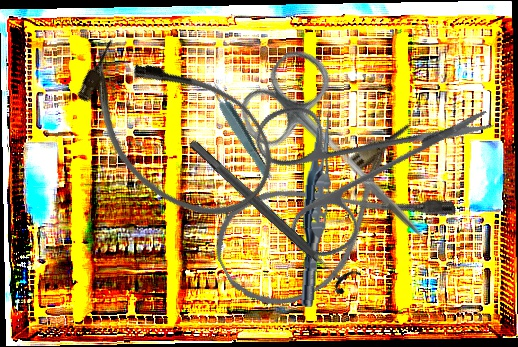Cannula: (52, 16, 298, 244), (200, 118, 461, 325)
Fixation Ring: (180, 129, 362, 299)
Iris Scissors: (217, 24, 499, 303), (228, 40, 461, 270)
Tissue Forceps: (296, 106, 336, 308), (204, 77, 276, 182)
